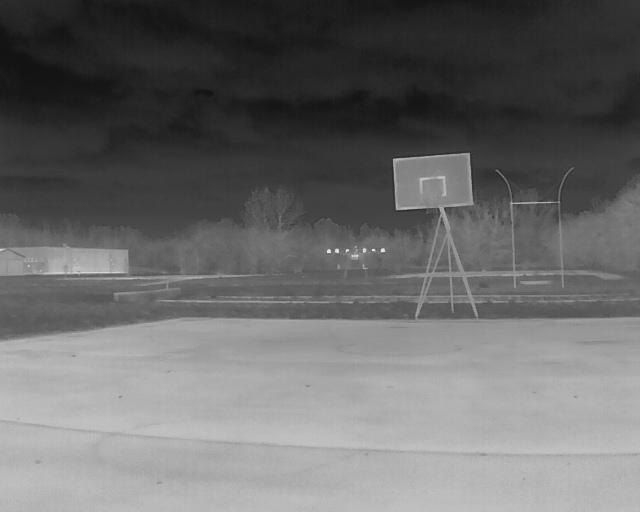drone: (322, 240, 389, 292)
